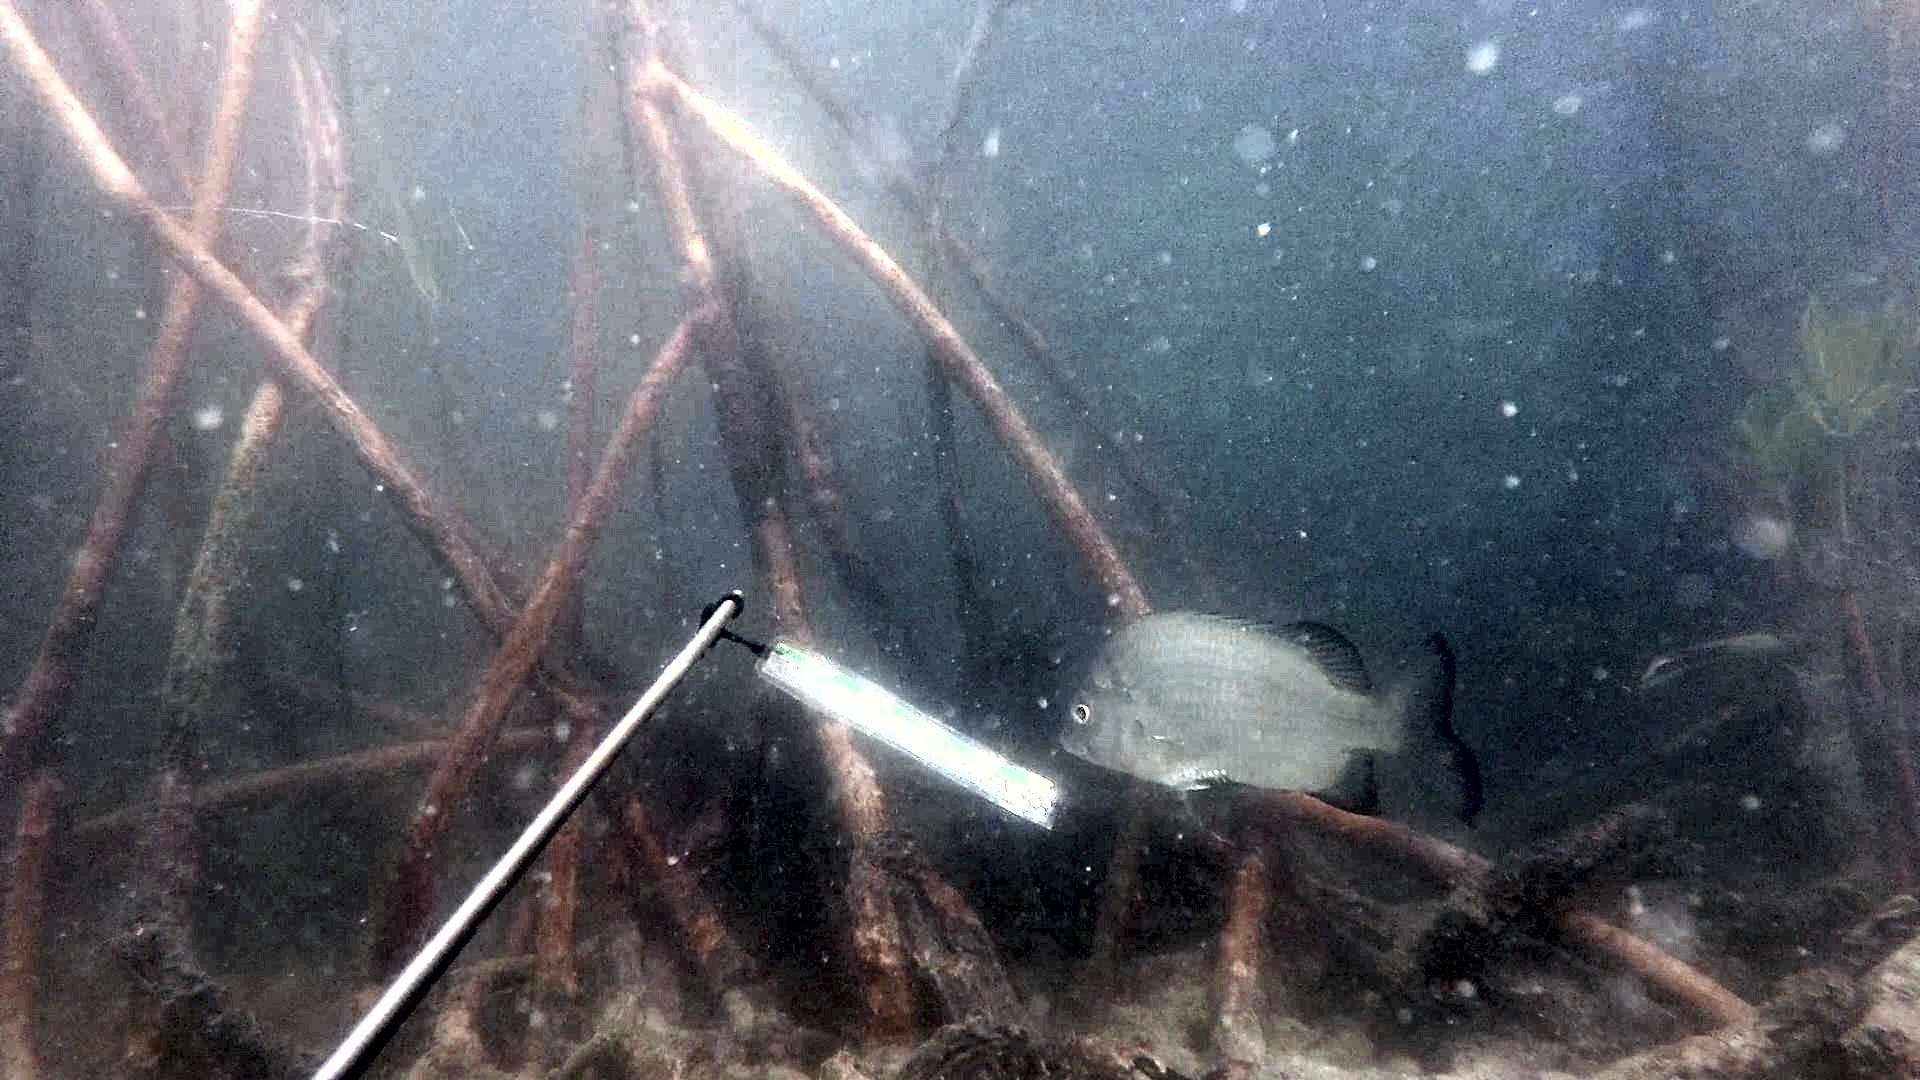acanthopagrus palmaris: (1052, 600, 1503, 853)
